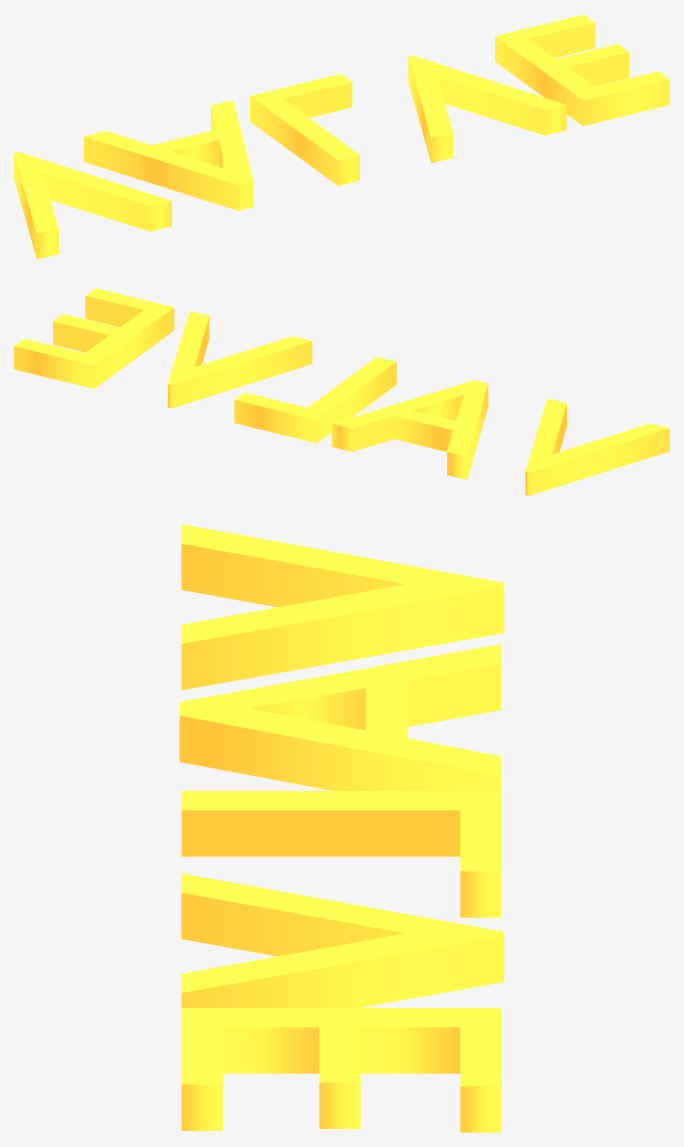
The model's file is VALVE.glb.
The picture shows the model from 3 angles, top to bottom: view 1: azimuth 30°, elevation 25°; view 2: azimuth 150°, elevation 25°; view 3: azimuth 270°, elevation 25°; orthographic projection. The views are drawn at different scales.
Visible parts, largest first — view 1: LABEL_VALVE; view 2: LABEL_VALVE; view 3: LABEL_VALVE.
Part boxes in pixels (left/top/right/bottom): LABEL_VALVE: left=14, top=14, right=669, bottom=259; LABEL_VALVE: left=14, top=288, right=669, bottom=495; LABEL_VALVE: left=179, top=524, right=504, bottom=1132.
Size of the model in its own units: 0.156 by 0.006 by 0.0381.
